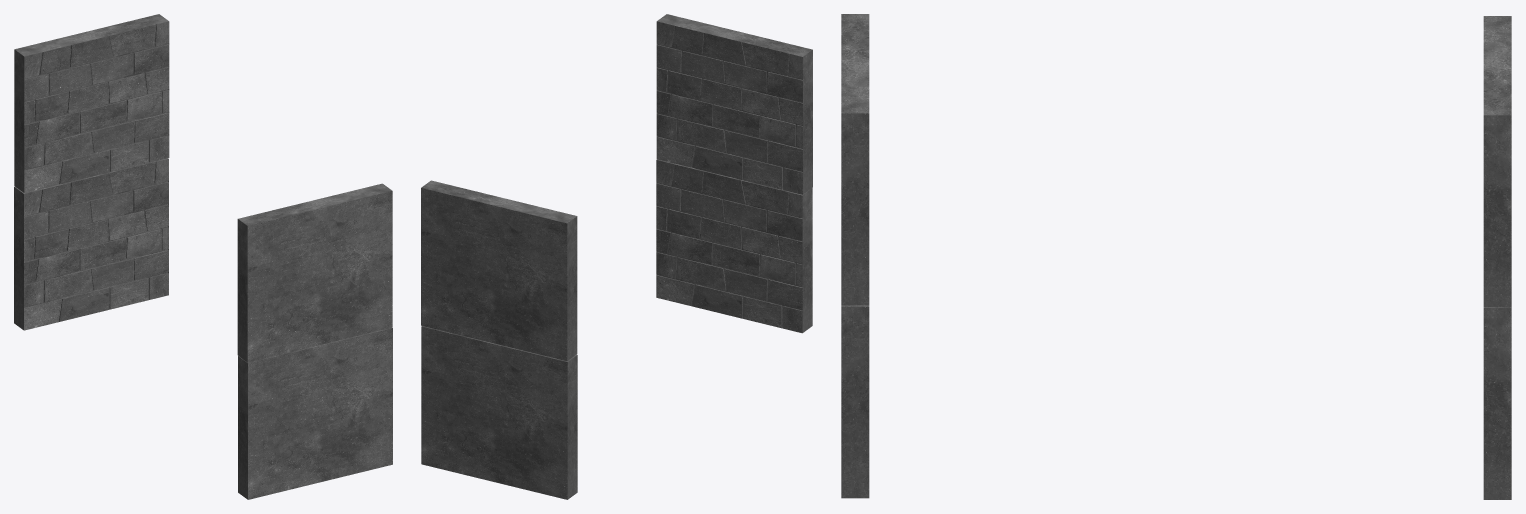
File: wallCrypt.glb
3 views of the same model, side by side, from view 1: azimuth 30°, elevation 25°; view 2: azimuth 150°, elevation 25°; view 3: azimuth 270°, elevation 25° (orthographic). The views are drawn at different scales.
Visible parts, largest first — view 1: Cube; view 2: Cube; view 3: Cube.
Part boxes in pixels (<box>): Cube: <box>14,14,392,499</box>; Cube: <box>421,14,812,499</box>; Cube: <box>841,14,1511,499</box>.
Size of the model in its own units: 4.96 by 8.69 by 13.66.
Materials: 1 (1 with a texture image).
